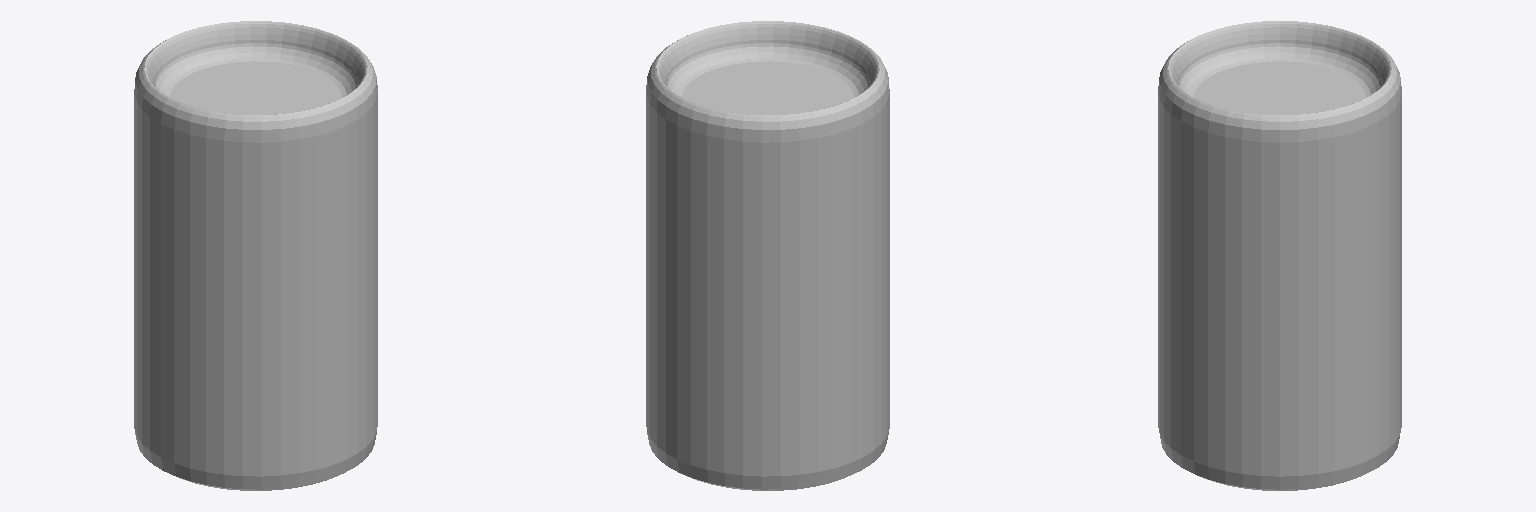
File: candle.obj
3 views of the same model, side by side, from view 1: azimuth 30°, elevation 25°; view 2: azimuth 150°, elevation 25°; view 3: azimuth 270°, elevation 25° (orthographic).
Visible parts, largest first — view 1: pCylinder1; view 2: pCylinder1; view 3: pCylinder1.
Boxes of the visible parts, x1,y1,x2,y2 form: pCylinder1: [134, 21, 377, 490]; pCylinder1: [646, 21, 889, 490]; pCylinder1: [1158, 21, 1401, 490].
Bounding box in the file's own units: 3.74 × 6.36 × 3.74.